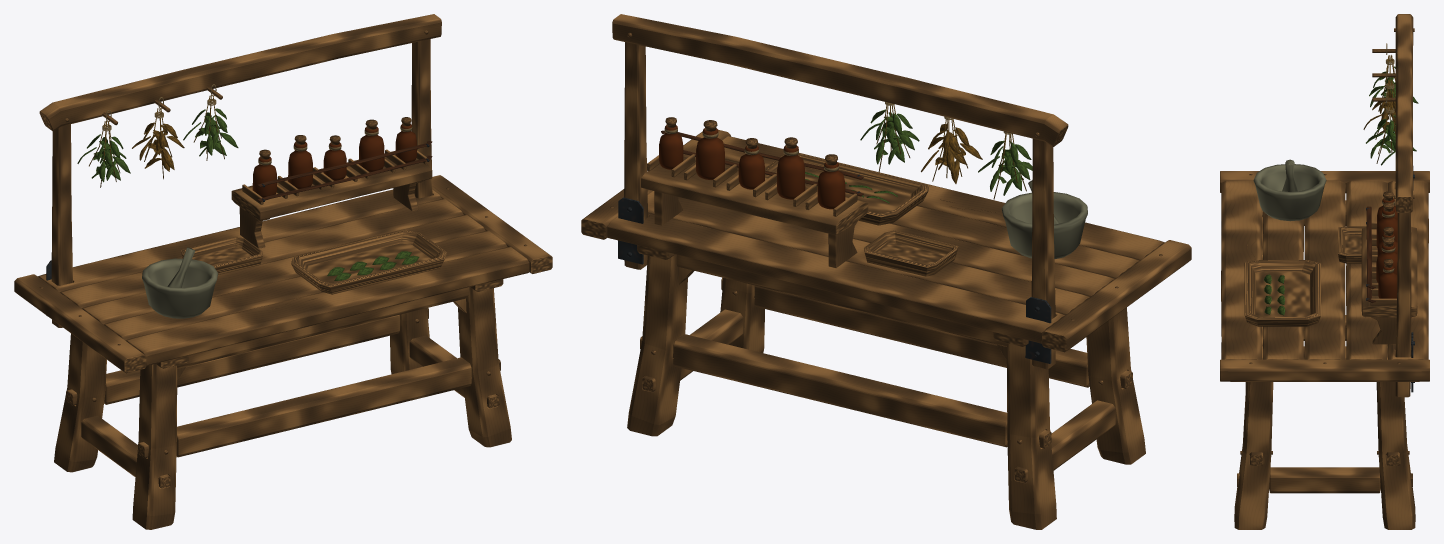
Rendered from frontier_field_apothecary_lod1.glb.
The picture shows the model from 3 angles, left to right: view 1: azimuth 30°, elevation 25°; view 2: azimuth 150°, elevation 25°; view 3: azimuth 270°, elevation 25°; orthographic projection. The views are drawn at different scales.
Parts seen in each view (by area): view 1: frontier_field_apothecary.timber, frontier_field_apothecary.stoneware, frontier_field_apothecary.amber, frontier_field_apothecary.sage, frontier_field_apothecary.dried, frontier_field_apothecary.leather, frontier_field_apothecary.endgrain; view 2: frontier_field_apothecary.timber, frontier_field_apothecary.amber, frontier_field_apothecary.stoneware, frontier_field_apothecary.sage, frontier_field_apothecary.dried, frontier_field_apothecary.iron, frontier_field_apothecary.endgrain, frontier_field_apothecary.leather; view 3: frontier_field_apothecary.timber, frontier_field_apothecary.stoneware, frontier_field_apothecary.amber, frontier_field_apothecary.sage, frontier_field_apothecary.endgrain, frontier_field_apothecary.dried, frontier_field_apothecary.leather, frontier_field_apothecary.linen.
Boxes of the visible parts, bbox=[...] form: frontier_field_apothecary.timber: bbox=[14, 14, 552, 529]; frontier_field_apothecary.stoneware: bbox=[142, 247, 217, 318]; frontier_field_apothecary.amber: bbox=[252, 124, 416, 197]; frontier_field_apothecary.sage: bbox=[77, 108, 419, 280]; frontier_field_apothecary.dried: bbox=[89, 95, 224, 187]; frontier_field_apothecary.leather: bbox=[257, 141, 432, 201]; frontier_field_apothecary.endgrain: bbox=[39, 30, 527, 454]; frontier_field_apothecary.timber: bbox=[581, 14, 1191, 529]; frontier_field_apothecary.amber: bbox=[659, 125, 845, 209]; frontier_field_apothecary.stoneware: bbox=[1001, 180, 1087, 259]; frontier_field_apothecary.sage: bbox=[805, 109, 1032, 203]; frontier_field_apothecary.dried: bbox=[876, 102, 1026, 199]; frontier_field_apothecary.iron: bbox=[618, 174, 1051, 363]; frontier_field_apothecary.endgrain: bbox=[610, 33, 1162, 444]; frontier_field_apothecary.leather: bbox=[661, 130, 863, 196]; frontier_field_apothecary.timber: bbox=[1220, 14, 1429, 529]; frontier_field_apothecary.stoneware: bbox=[1253, 159, 1326, 221]; frontier_field_apothecary.amber: bbox=[1376, 198, 1397, 298]; frontier_field_apothecary.sage: bbox=[1264, 66, 1418, 315]; frontier_field_apothecary.endgrain: bbox=[1240, 28, 1414, 454]; frontier_field_apothecary.dried: bbox=[1363, 55, 1395, 163]; frontier_field_apothecary.leather: bbox=[1366, 206, 1375, 302]; frontier_field_apothecary.linen: bbox=[1381, 43, 1395, 272].
Bounding box in the file's own units: 2.29 × 1.85 × 1.02.
Materials: 9 (9 with a texture image).
